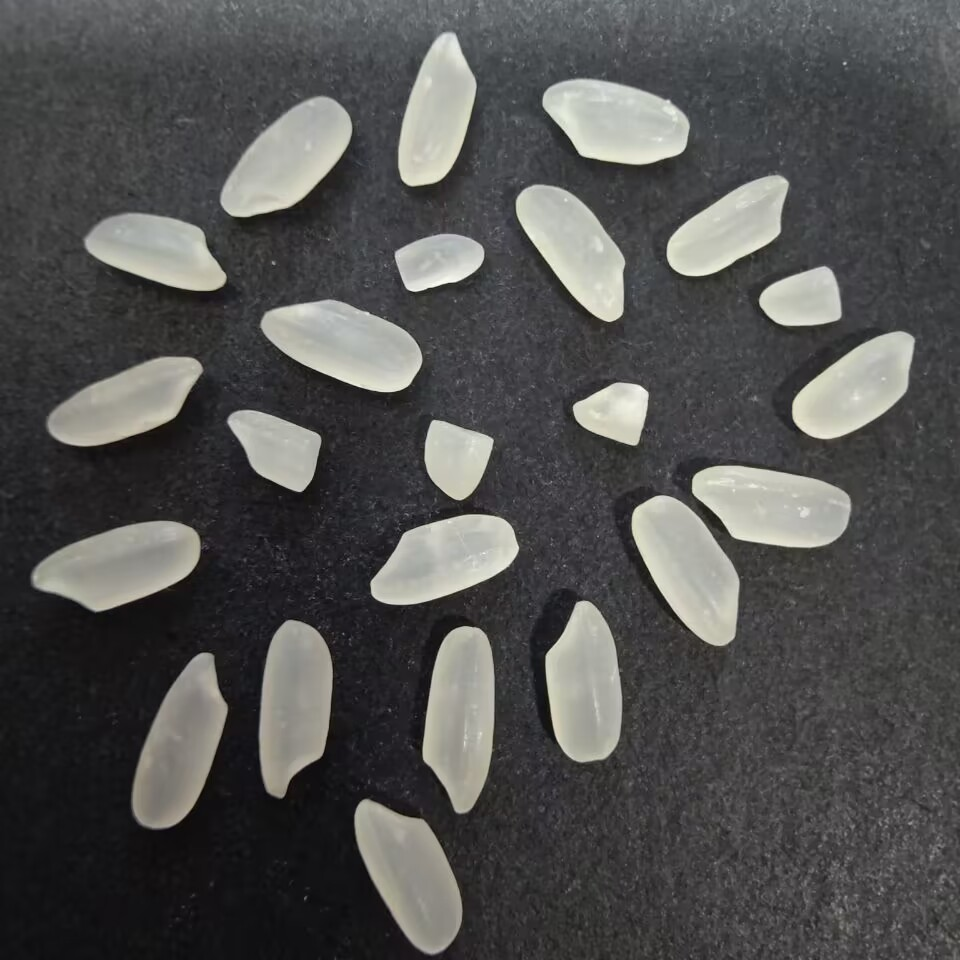broken: (220, 406, 326, 499), (419, 413, 498, 503), (387, 230, 490, 295), (565, 376, 652, 451), (755, 264, 844, 331)
rice: (126, 646, 232, 834), (347, 793, 465, 960), (626, 494, 744, 653), (214, 90, 357, 219), (25, 513, 207, 614), (510, 182, 631, 327), (254, 295, 427, 396), (253, 615, 338, 804), (363, 508, 522, 609), (39, 353, 202, 450), (686, 461, 855, 551), (419, 624, 497, 819), (789, 325, 918, 442), (536, 75, 693, 170), (393, 27, 483, 192), (542, 595, 627, 767), (73, 208, 234, 295), (664, 173, 793, 280)
